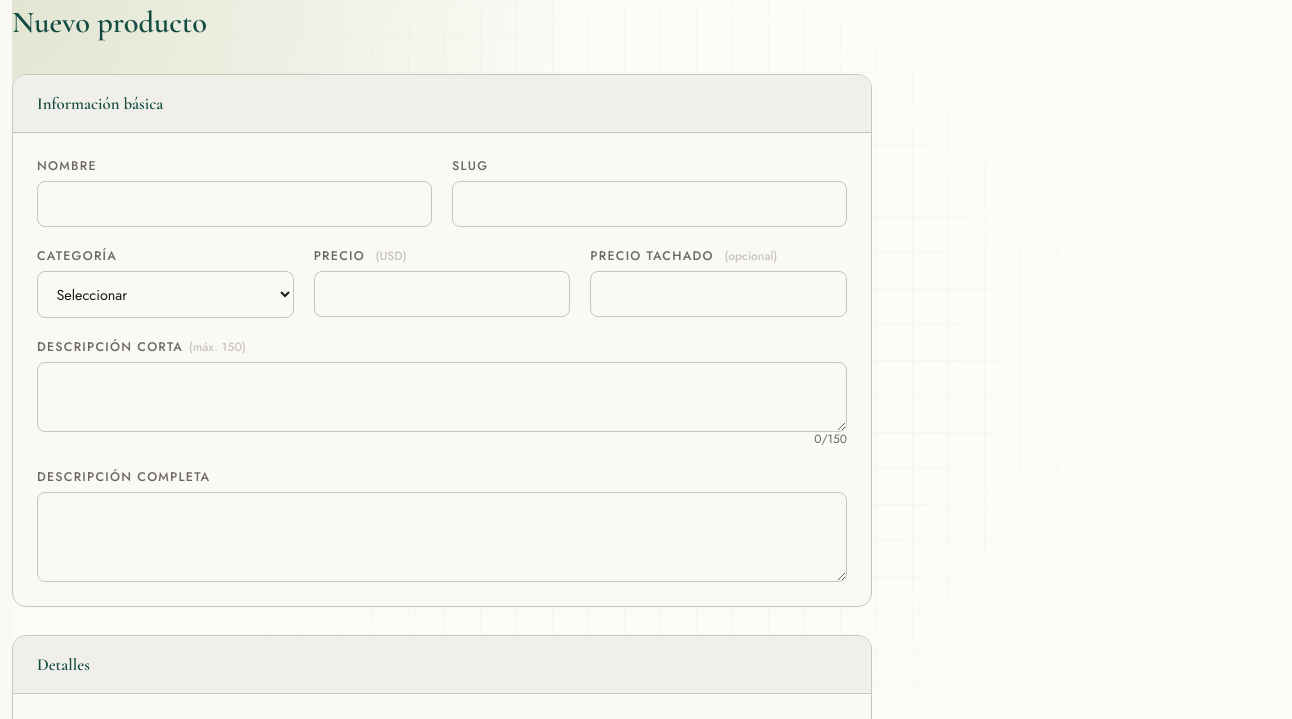
Test: ProductForm › slug auto-generates from product name input
The width and height of the screenshot is (1292, 719).
Type "Aurelia Set" into the field labelled "Nombre" at [234, 204], box [37, 181, 432, 227]
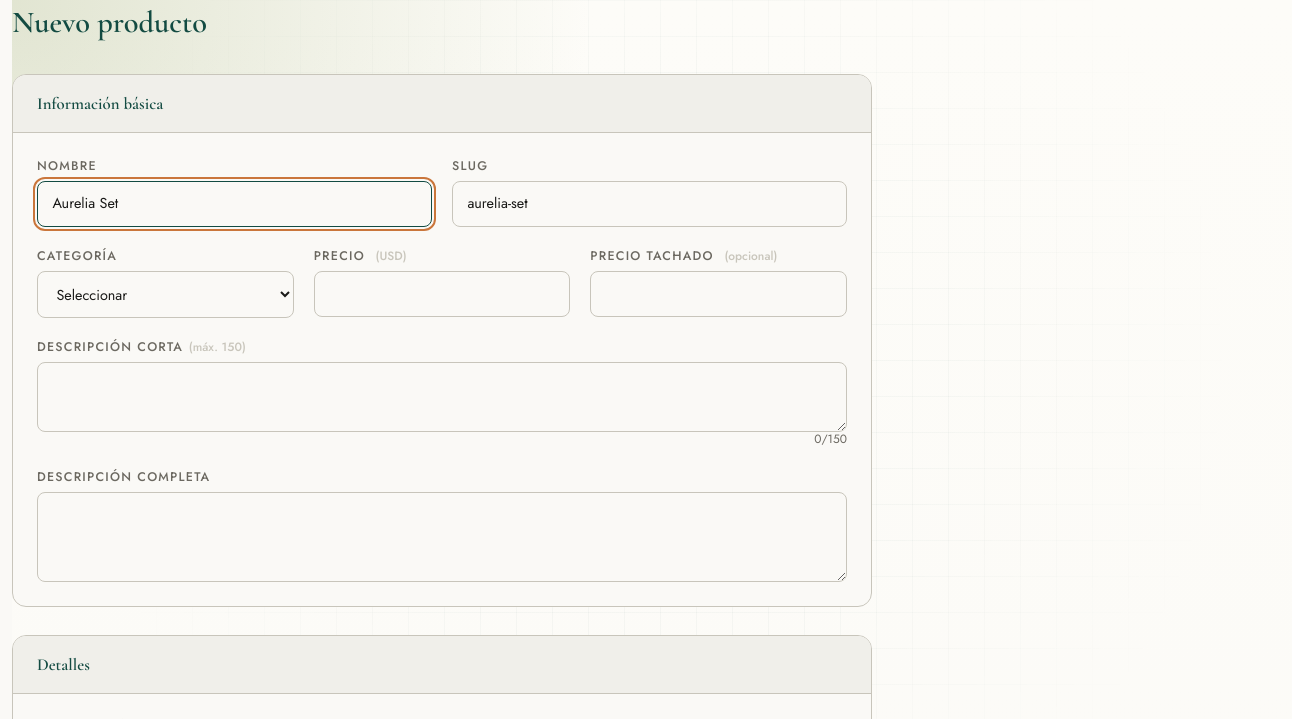
Now the field labelled "Slug" holds "aurelia-set", box [452, 181, 847, 227]
